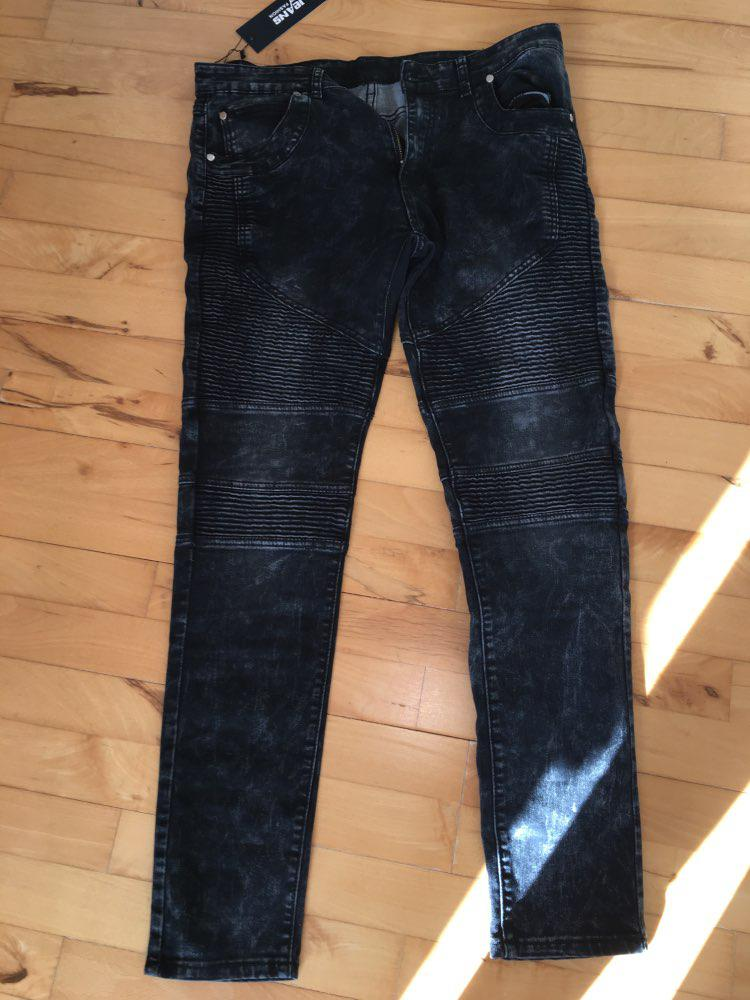jeans: (165, 16, 663, 939)
